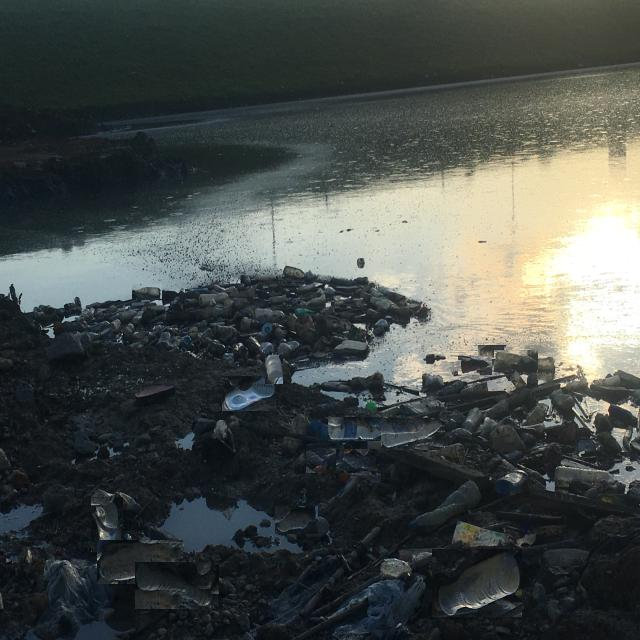Plastic bottle: (432, 550, 522, 618), (408, 478, 483, 534), (135, 562, 219, 609), (97, 540, 183, 584), (366, 429, 433, 461), (381, 418, 445, 451), (222, 376, 276, 411), (553, 463, 617, 492), (91, 497, 123, 552), (306, 444, 360, 474), (328, 417, 383, 441), (275, 506, 318, 534), (494, 350, 538, 372), (336, 449, 378, 471), (520, 354, 557, 373), (458, 356, 492, 375), (265, 352, 283, 384), (132, 284, 162, 300), (478, 346, 506, 360)
Plastic packaging: (451, 518, 514, 552)
